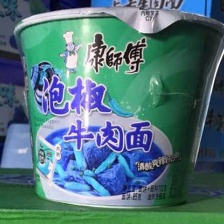paper_cup: (7, 2, 223, 214)
